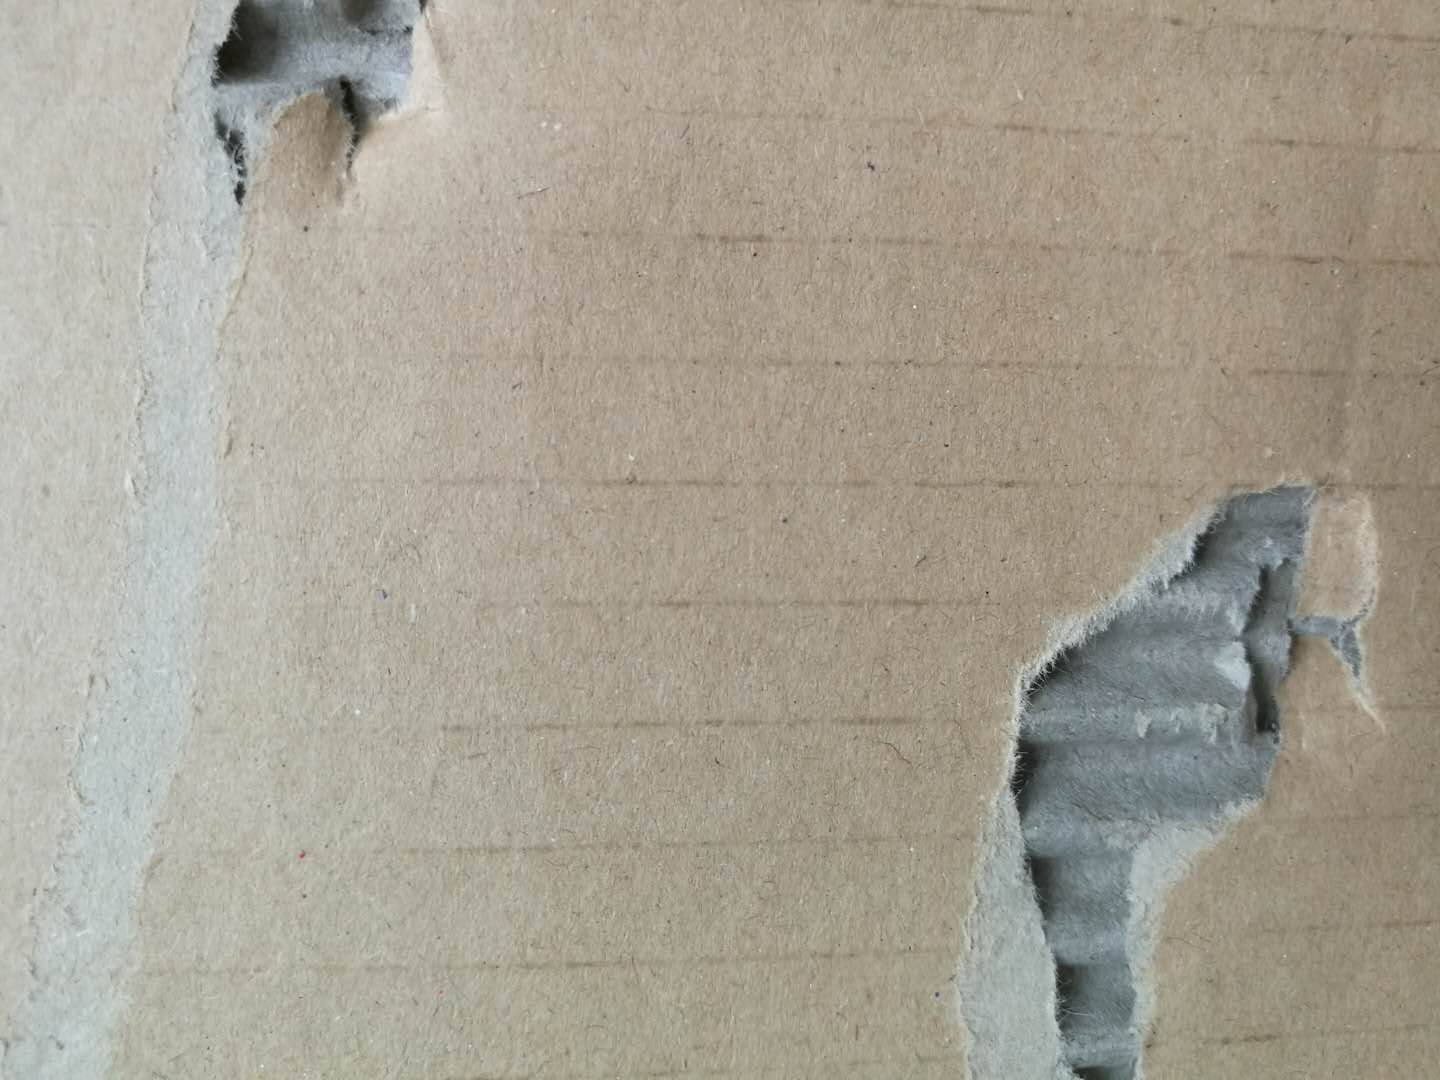defect: (1, 2, 495, 1080), (929, 448, 1408, 1080)
